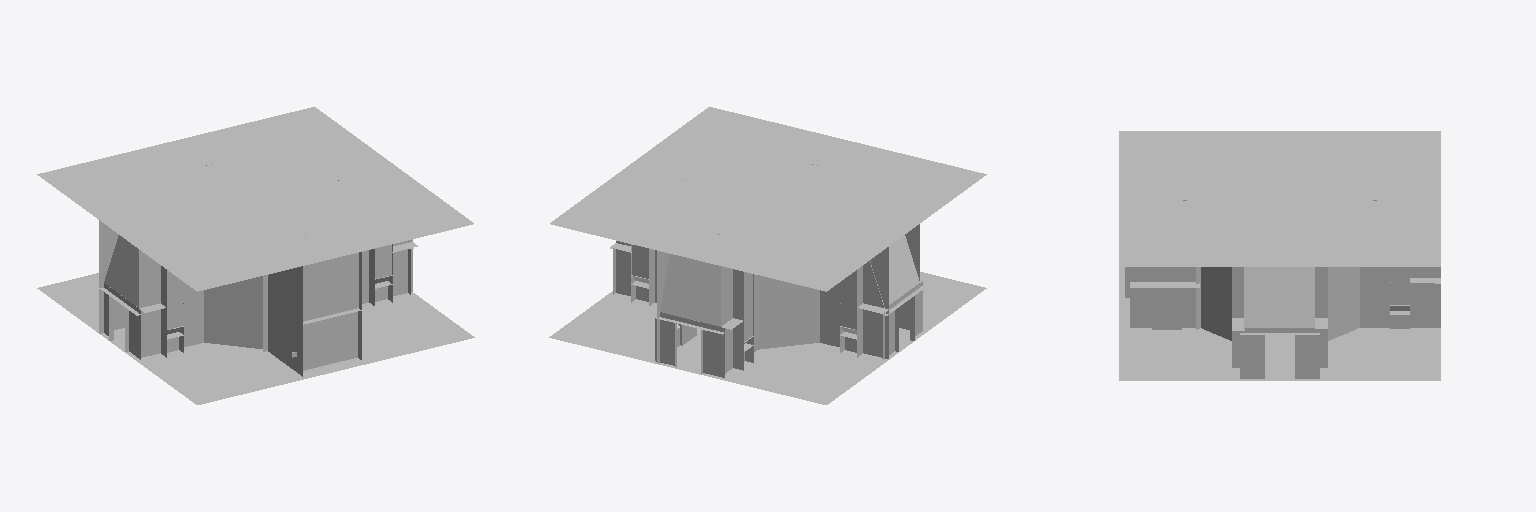
Rendered from LC_room3.obj.
3 views of the same model, side by side, from view 1: azimuth 30°, elevation 25°; view 2: azimuth 150°, elevation 25°; view 3: azimuth 270°, elevation 25° (orthographic).
Visible parts, largest first — view 1: LC_room3; view 2: LC_room3; view 3: LC_room3.
Boxes of the visible parts, box(x1,y1,x2,y2) form: LC_room3: box(37, 107, 474, 404); LC_room3: box(549, 107, 986, 404); LC_room3: box(1119, 131, 1440, 380).
Bounding box in the file's own units: 20.48 × 8.01 × 20.48.